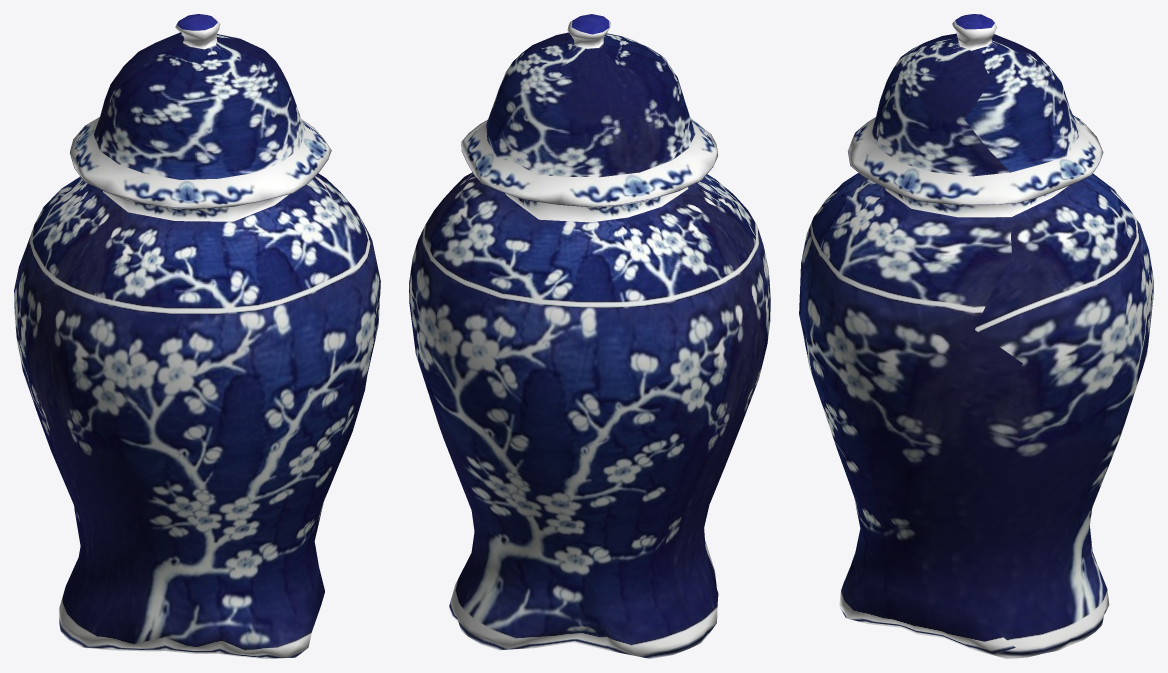
File: Vase.001.fbx
The picture shows the model from 3 angles, left to right: view 1: azimuth 30°, elevation 25°; view 2: azimuth 150°, elevation 25°; view 3: azimuth 270°, elevation 25°; orthographic projection. The views are drawn at different scales.
Visible parts, largest first — view 1: Vase.001; view 2: Vase.001; view 3: Vase.001.
Boxes of the visible parts, bbox=[...] form: Vase.001: bbox=[14, 14, 380, 658]; Vase.001: bbox=[409, 14, 770, 658]; Vase.001: bbox=[799, 14, 1153, 658].
Size of the model in its own units: 29.37 by 52.85 by 28.81.
Materials: 1 (1 with a texture image).
